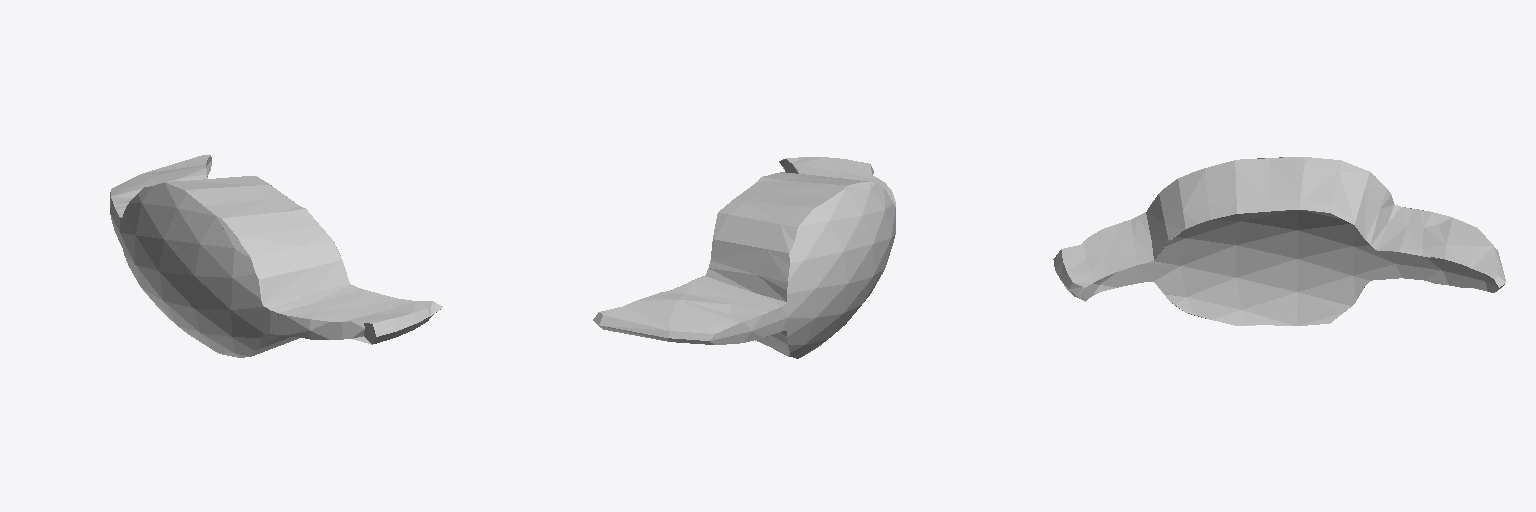
3 views of the same model, side by side, from view 1: azimuth 30°, elevation 25°; view 2: azimuth 150°, elevation 25°; view 3: azimuth 270°, elevation 25° (orthographic).
Visible parts, largest first — view 1: joint_8; view 2: joint_8; view 3: joint_8.
Boxes of the visible parts, x1=… form: joint_8: x1=110, y1=155, x2=442, y2=357; joint_8: x1=593, y1=157, x2=895, y2=358; joint_8: x1=1053, y1=157, x2=1505, y2=325.
Bounding box in the file's own units: 0.0019 × 0.0014 × 0.0041.